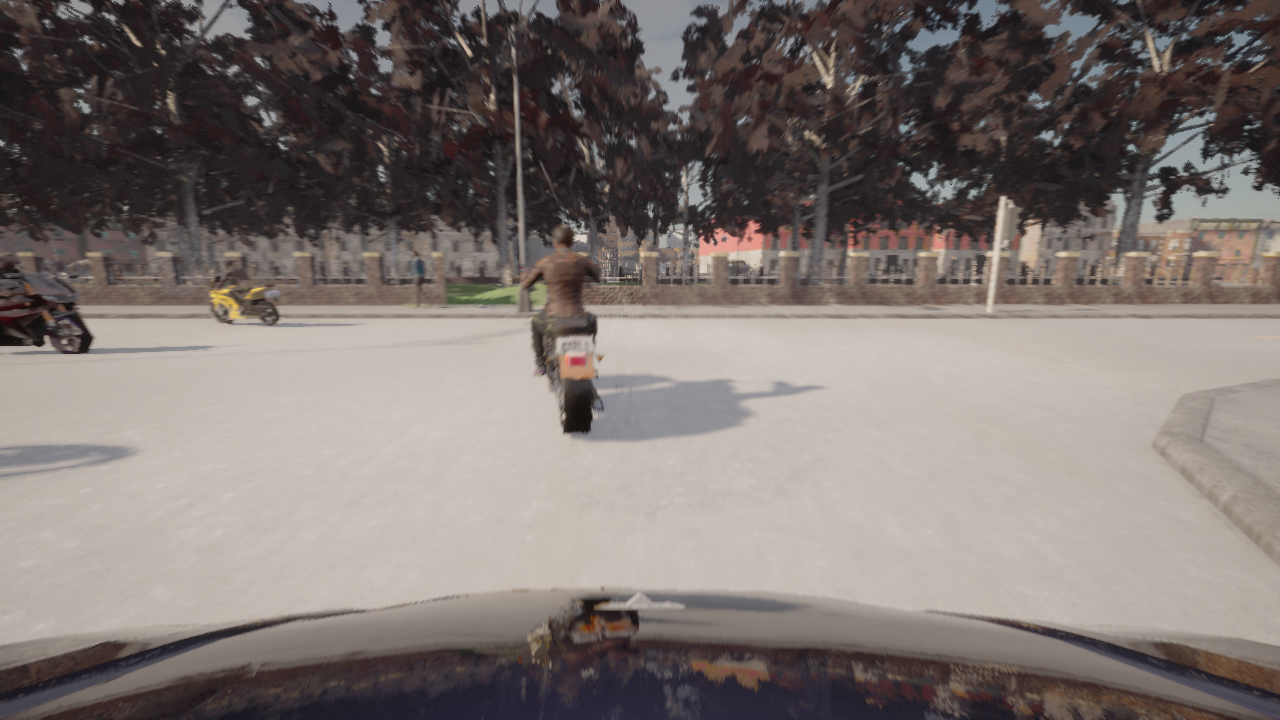cyclist: (0, 588, 1279, 719), (519, 265, 603, 435), (0, 271, 94, 354), (196, 275, 280, 326)
pedestrian: (407, 250, 432, 308)
